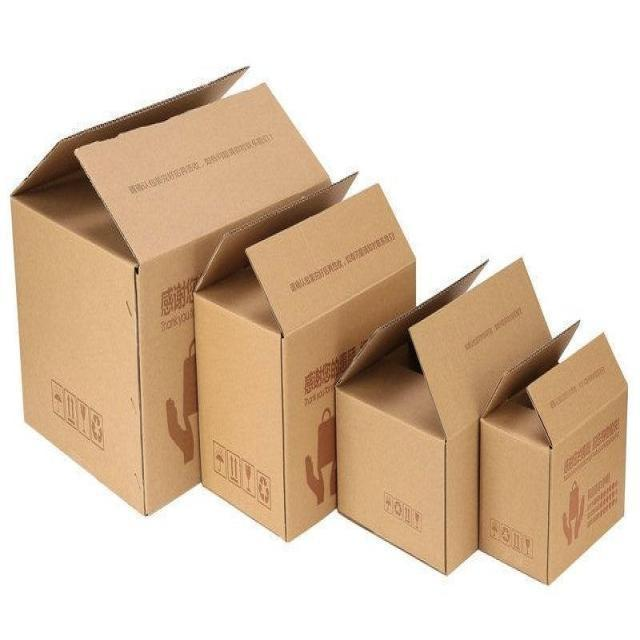box: (8, 69, 350, 520), (194, 183, 417, 544), (335, 255, 580, 579), (479, 328, 628, 588)
